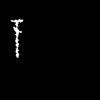double_crochet: (11, 20, 22, 56)
